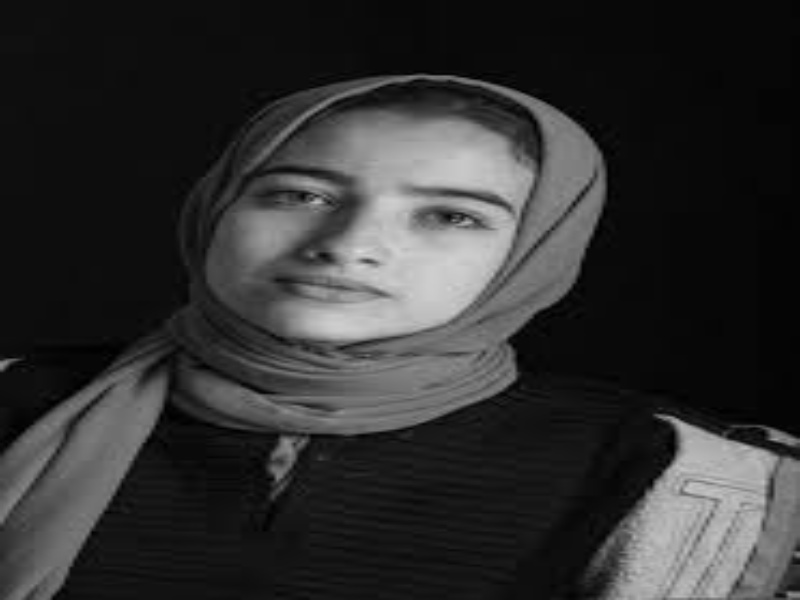face: (254, 125, 521, 319)
